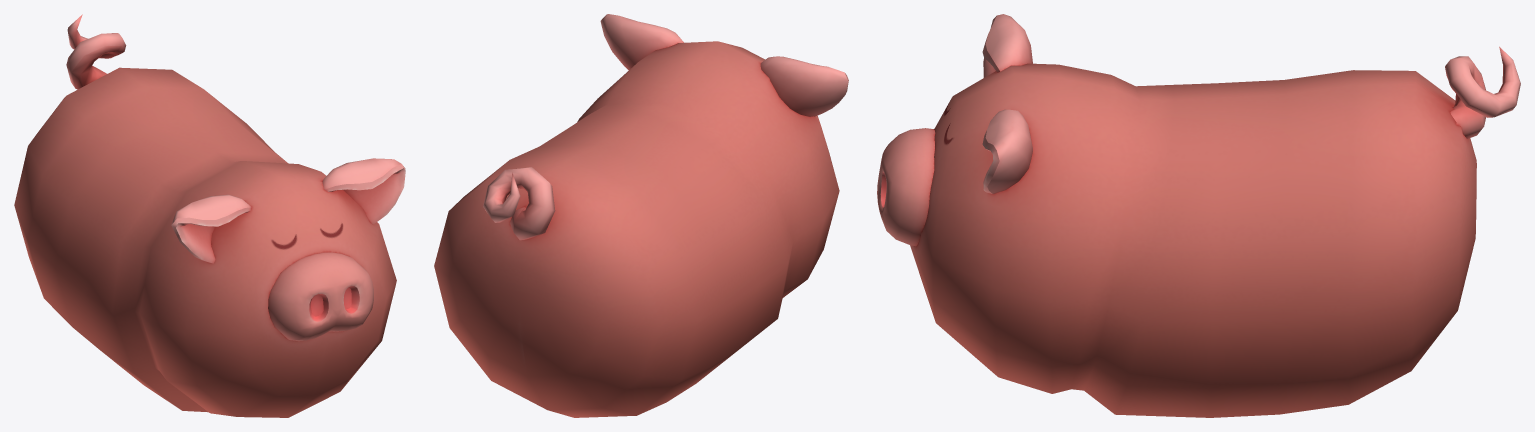
The model's file is Farm_Animal_Pig_01.fbx.
3 renders of one model, left to right at view 1: azimuth 30°, elevation 25°; view 2: azimuth 150°, elevation 25°; view 3: azimuth 270°, elevation 25°, orthographic. The views are drawn at different scales.
Parts seen in each view (by area): view 1: Farm_Animal_Pig_01; view 2: Farm_Animal_Pig_01; view 3: Farm_Animal_Pig_01.
Boxes of the visible parts, x1,y1,x2,y2 form: Farm_Animal_Pig_01: [14, 14, 405, 417]; Farm_Animal_Pig_01: [434, 14, 848, 417]; Farm_Animal_Pig_01: [877, 14, 1520, 417].
Bounding box in the file's own units: 64.4 × 75.07 × 123.
